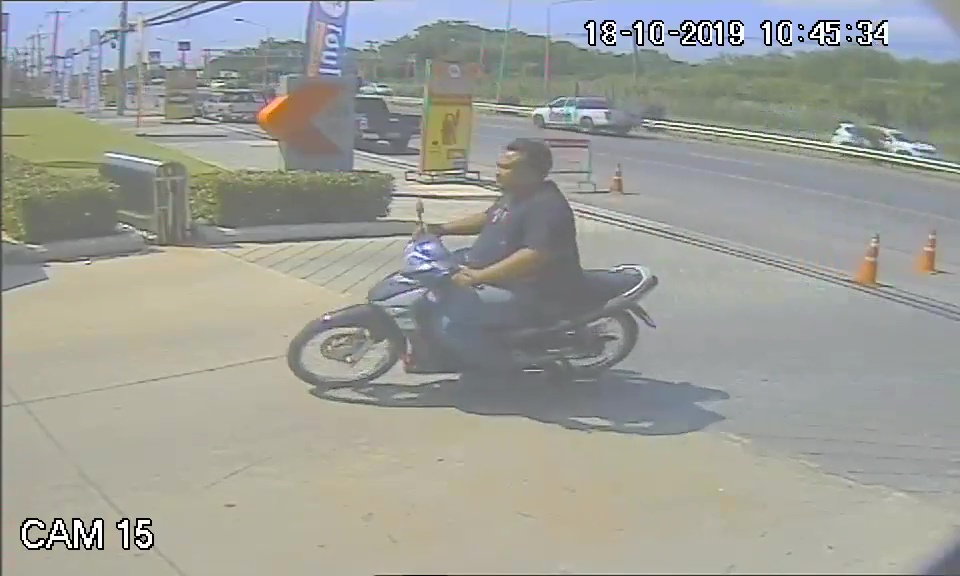motorcycle: (279, 232, 663, 395)
